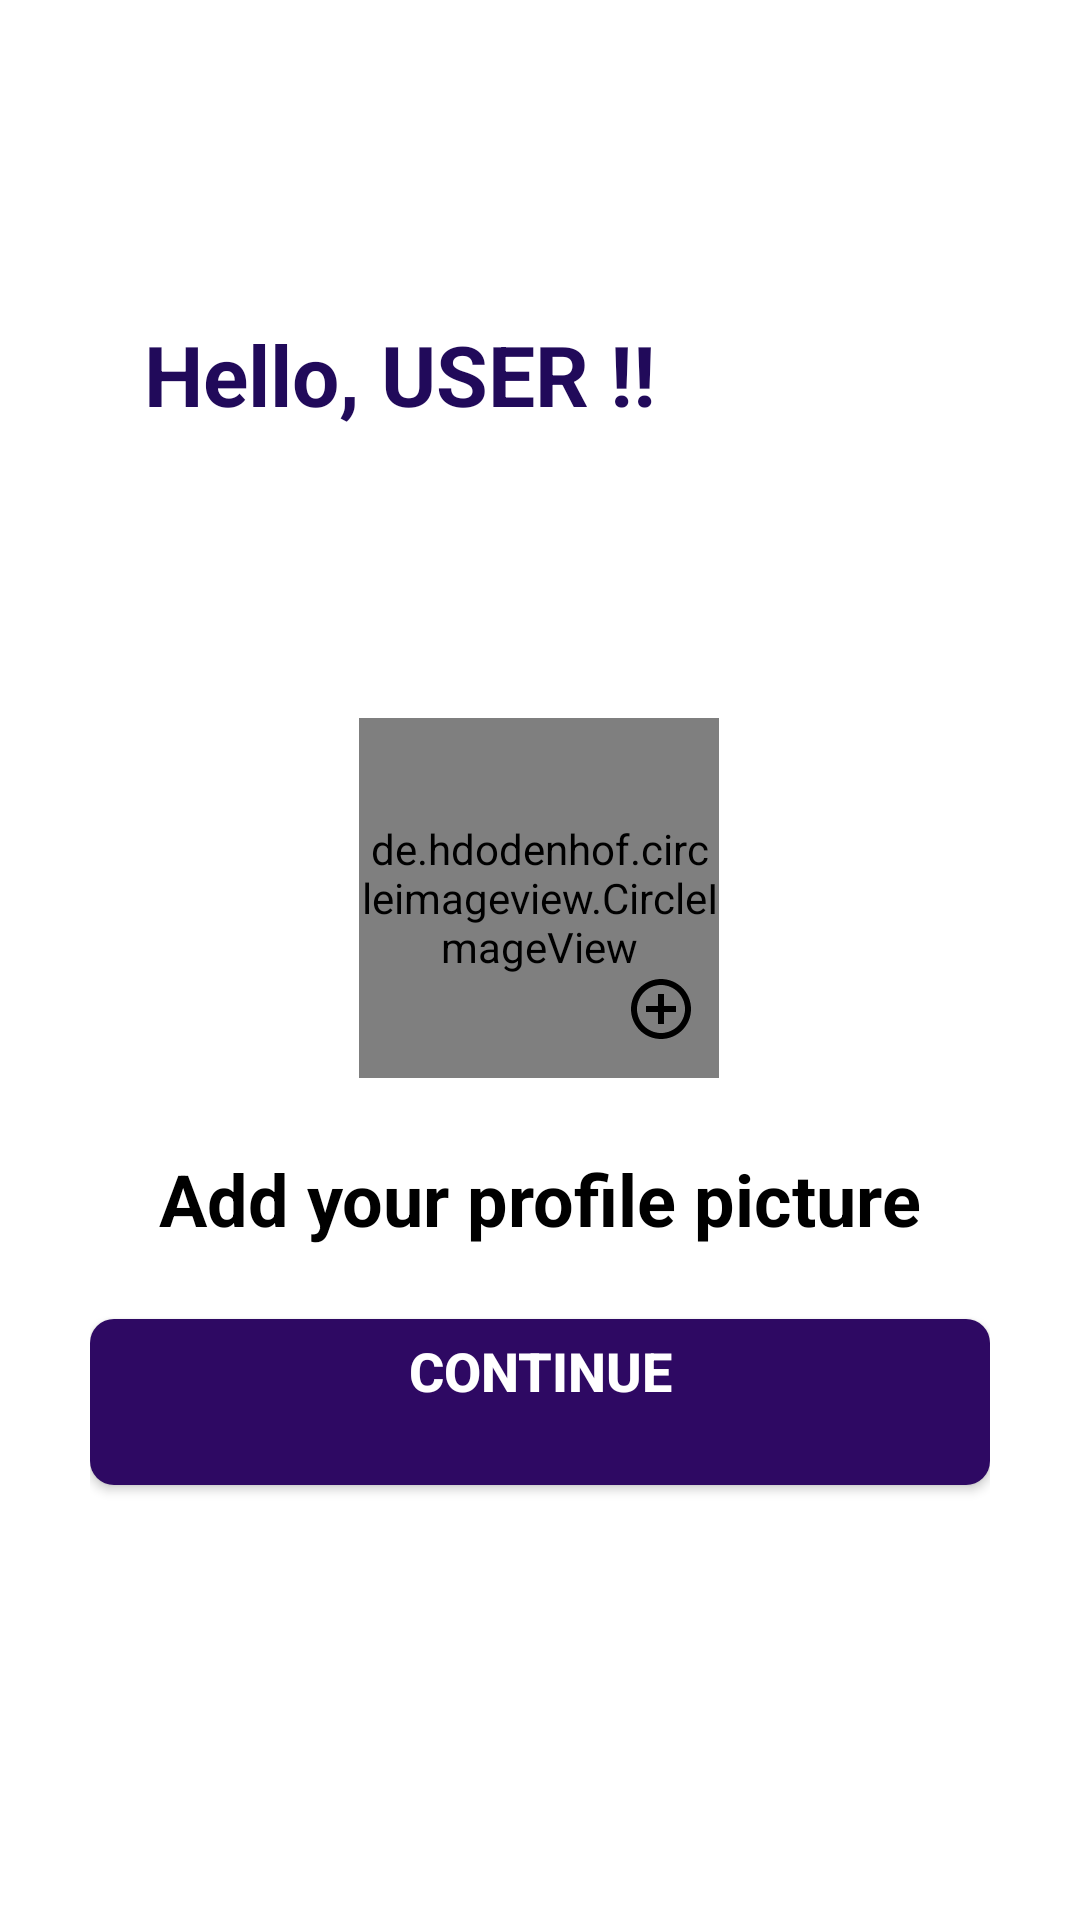

Icons on this 1080x1920 Android screen, each with its box as (x1, y1, x2, y2):
add circle: (631, 979, 691, 1039)
